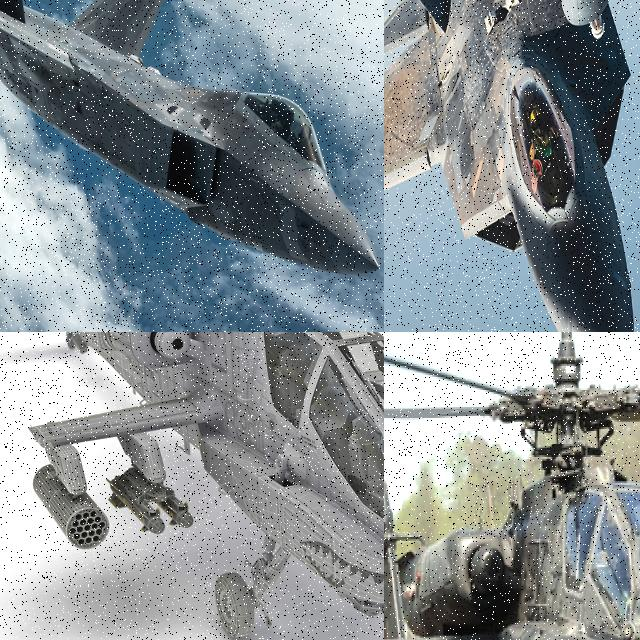Apache: (0, 332, 384, 640), (384, 332, 640, 640)
F22: (0, 0, 383, 276), (384, 0, 640, 332)
